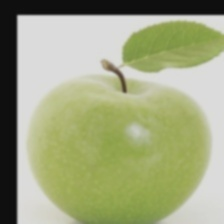apple: (34, 35, 176, 190)
